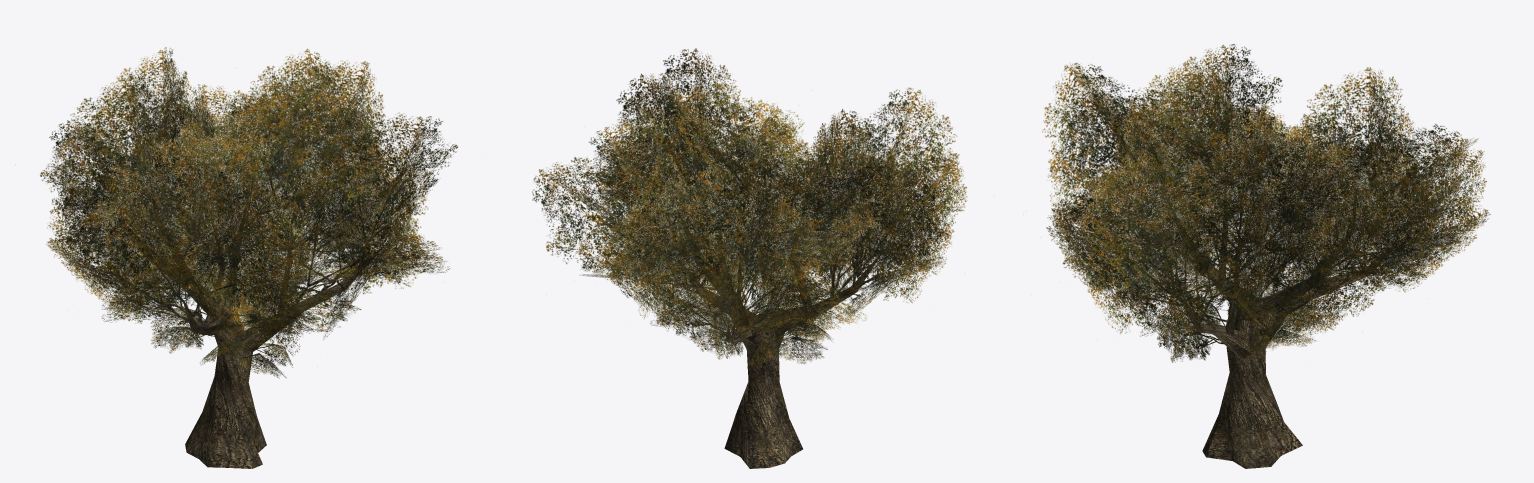
File: tree801.glb
3 renders of one model, left to right at view 1: azimuth 30°, elevation 25°; view 2: azimuth 150°, elevation 25°; view 3: azimuth 270°, elevation 25°, orthographic. The views are drawn at different scales.
Parts seen in each view (by area): view 1: tree801; view 2: tree801; view 3: tree801.
Boxes of the visible parts, x1,y1,x2,y2 form: tree801: (40, 47, 457, 468); tree801: (532, 48, 967, 468); tree801: (1042, 44, 1490, 468).
Bounding box in the file's own units: 39.88 × 35.89 × 39.77.
2 materials, 2 textured.
